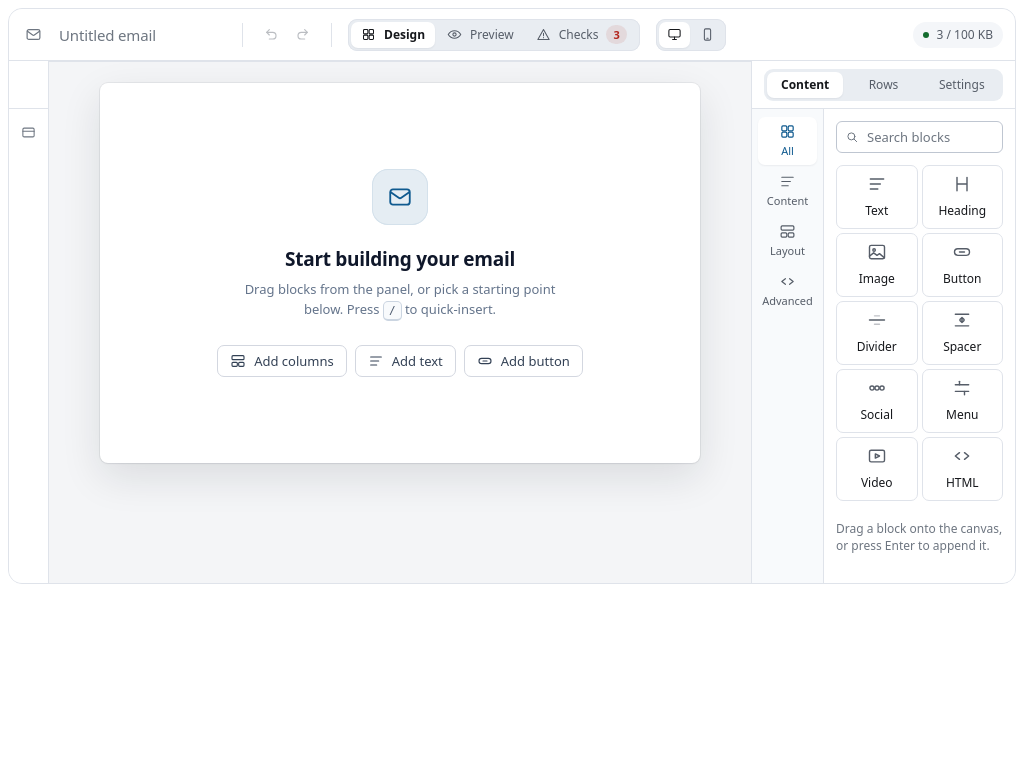
Test: quick insert › filters as you type and inserts on Enter
The image size is (1024, 768).
Press / in the element with class "mk-root"
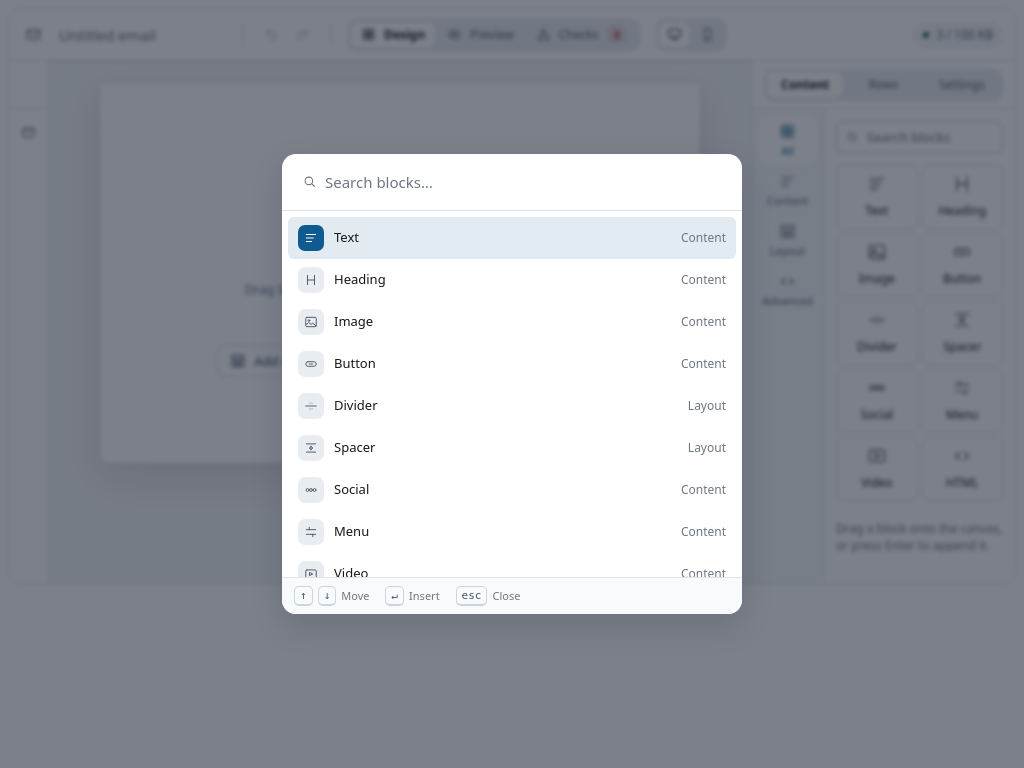
Type "divid" into the field labelled "Search blocks…" at (512, 182), box [292,164,732,200]
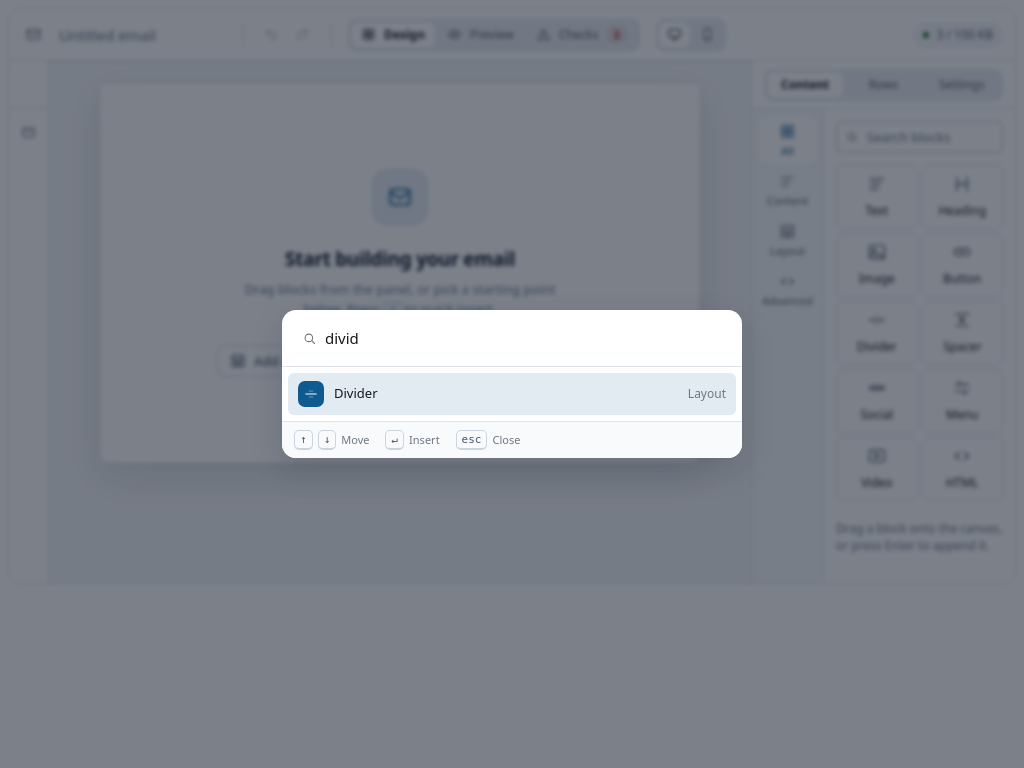
Expected: the number of options is 1, [288,373,736,415]
Press Enter in the field named "Search blocks…", box [292,320,732,356]
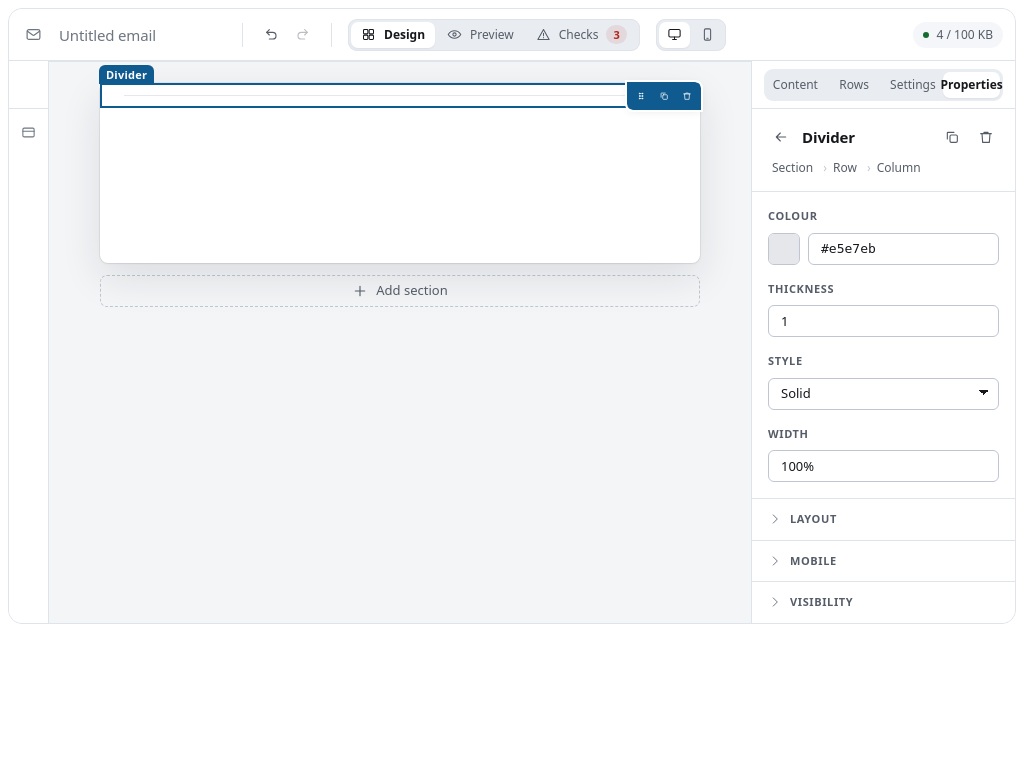
Expected: the dialog is gone
